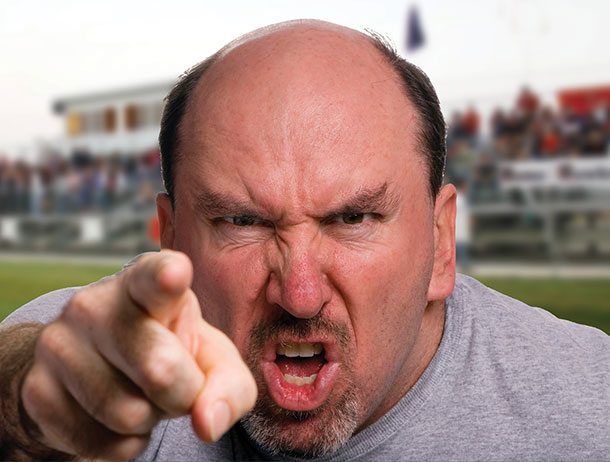human: (1, 17, 610, 462)
